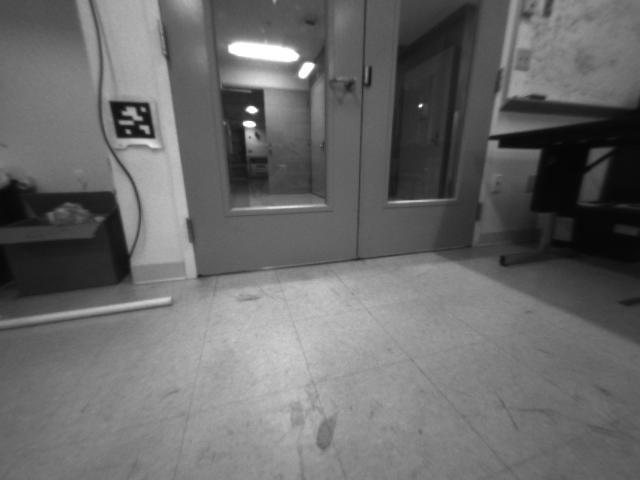door_handle: (327, 73, 358, 91)
